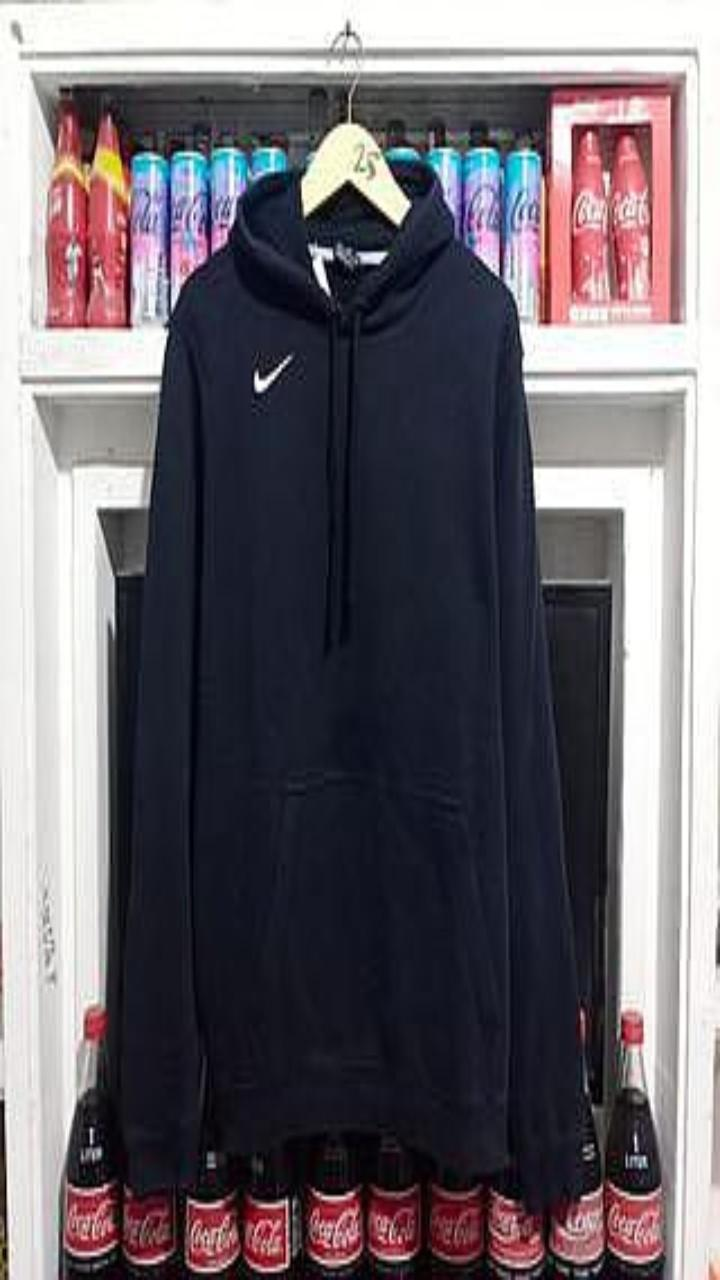Hoodie: (121, 163, 581, 1205)
